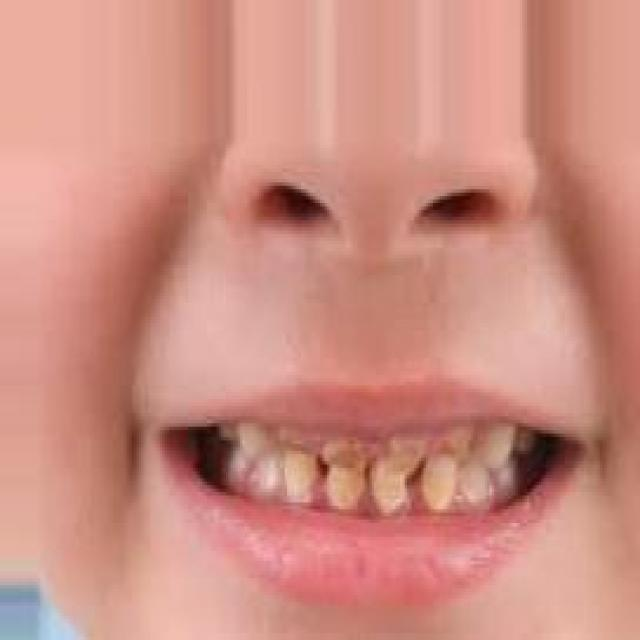caries: (372, 430, 426, 487), (433, 417, 480, 478), (317, 430, 367, 481)
